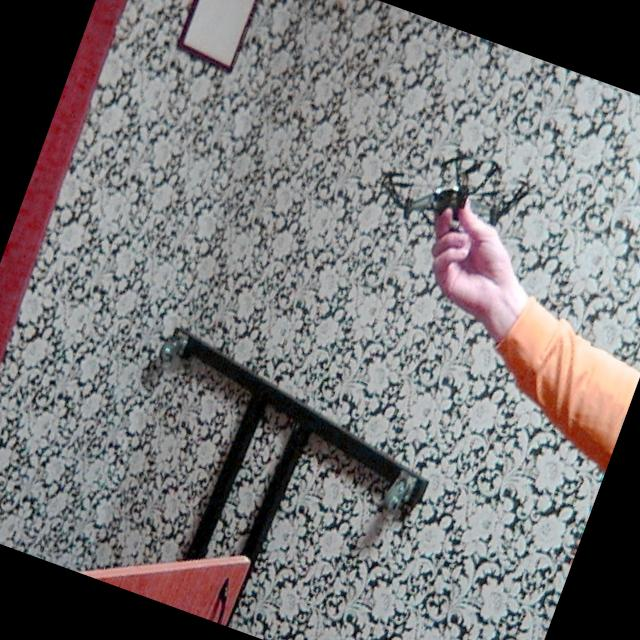drone: (362, 112, 550, 274)
